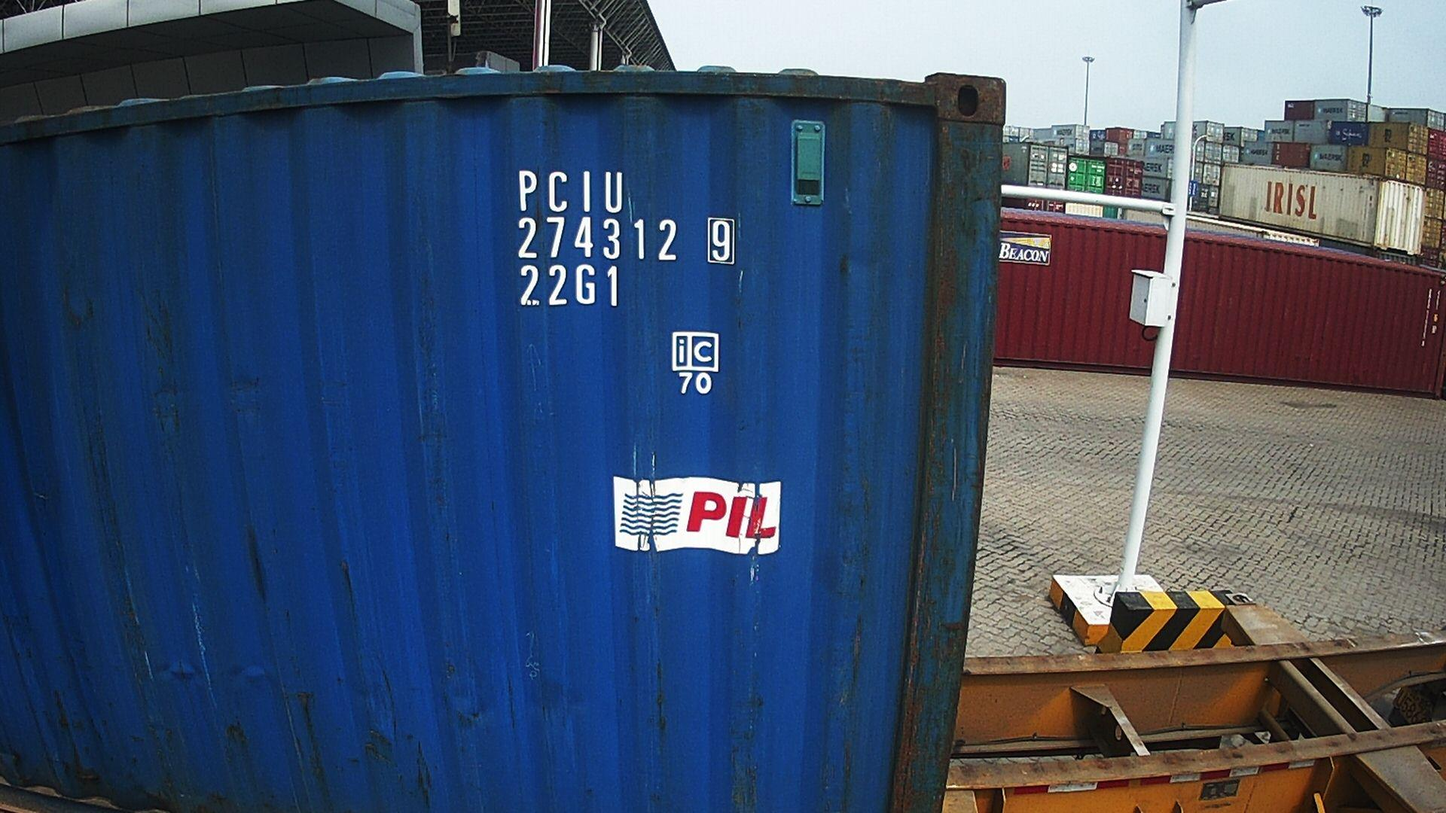container-numbers: (512, 215, 739, 268), (515, 166, 628, 216), (512, 263, 624, 312)
